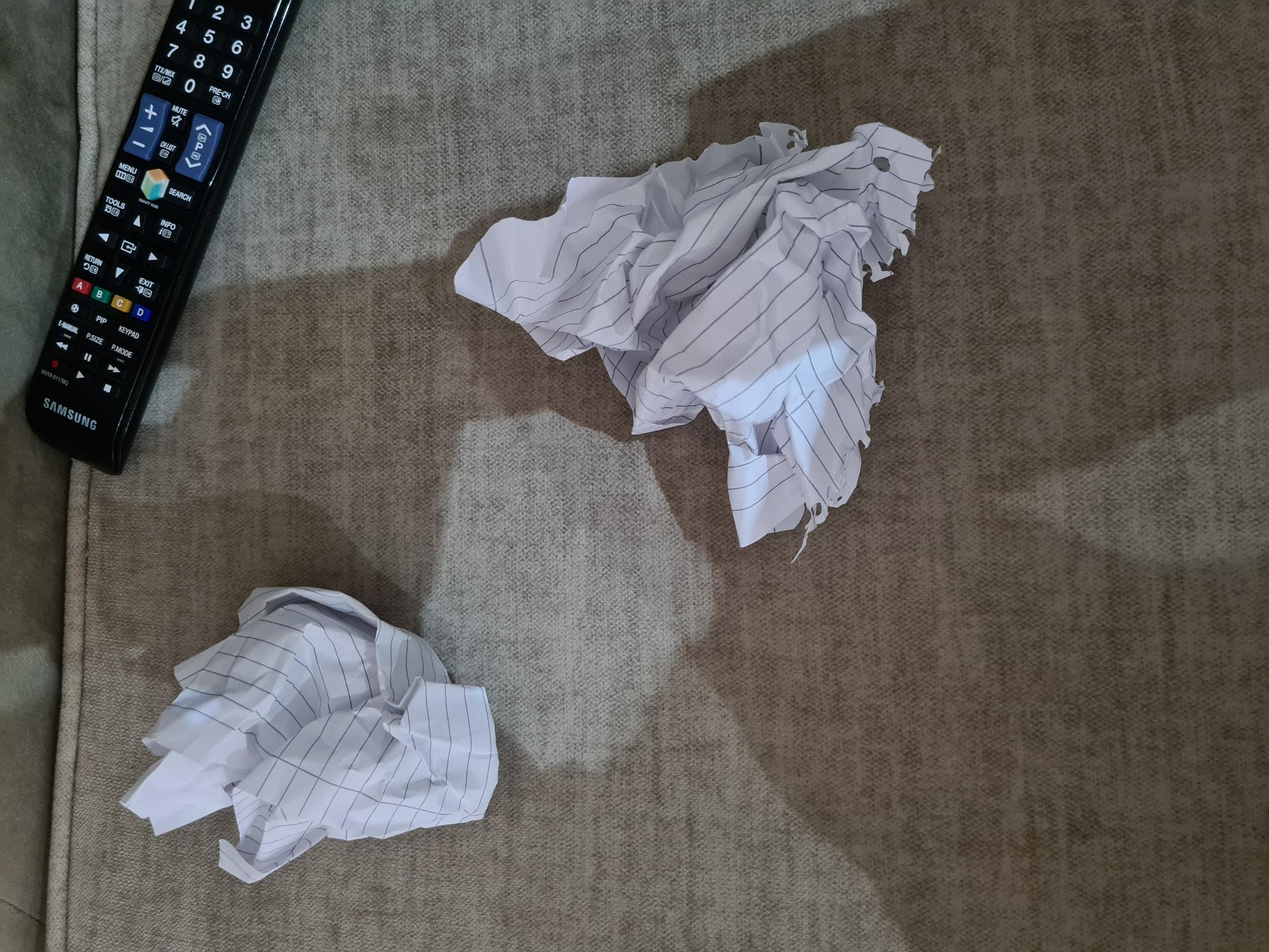Kertas: (485, 457, 816, 923), (73, 120, 369, 492)
